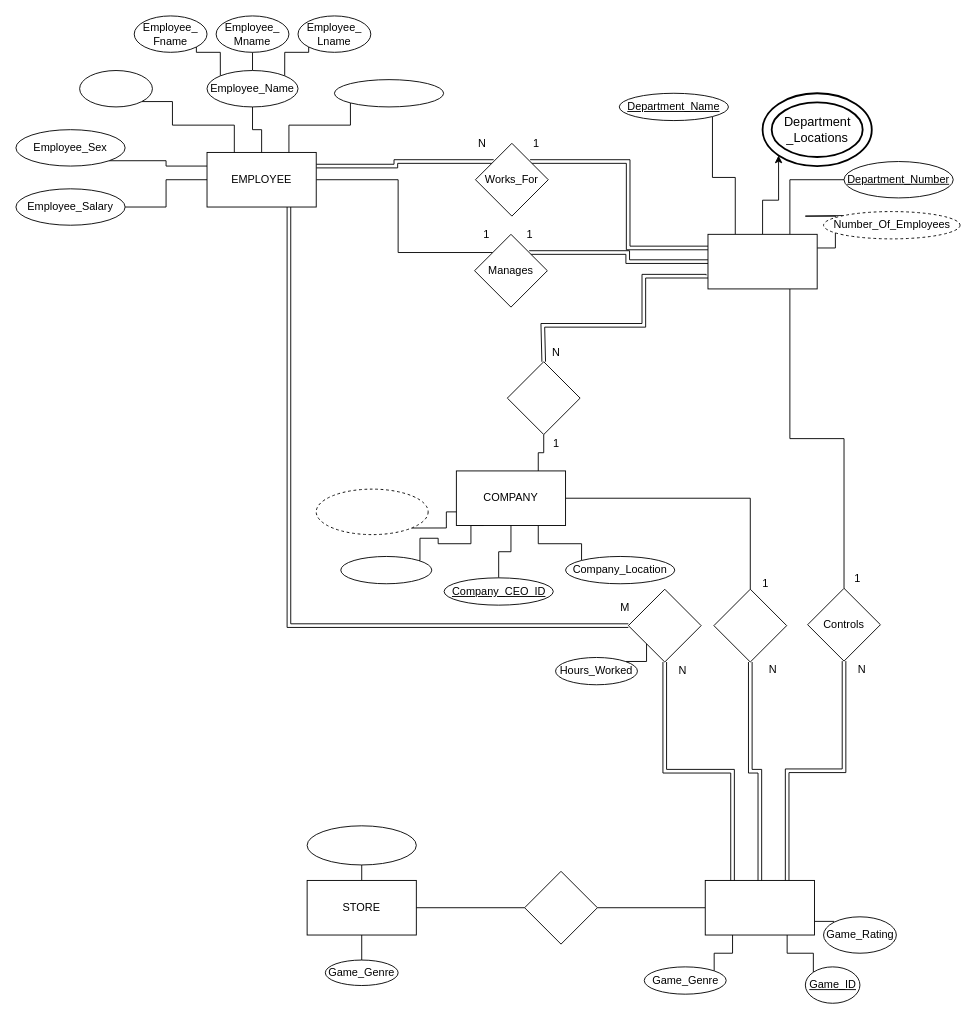
This 976x1019 diagram has some shape labels left out. The centre of each missing label's shape, as x and y in pixels:
Company_Name: the point at 386,570
Company_Number _Of_Employees: the point at 371,511
DEPARTMENT: the point at 762,261
Employee_Address: the point at 389,93
Employee_ID: the point at 115,88
Game_Genre_Supply: the point at 361,845
Part_Of: the point at 543,398
Produces: the point at 750,625
Send_To: the point at 560,907
VIDEO_GAME: the point at 759,907
Works_On: the point at 664,625
